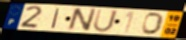1: (124, 11, 136, 34)
2: (18, 6, 44, 29)
I: (50, 7, 61, 29)
N: (66, 7, 98, 32)
O: (141, 12, 166, 36)
U: (92, 8, 119, 33)
